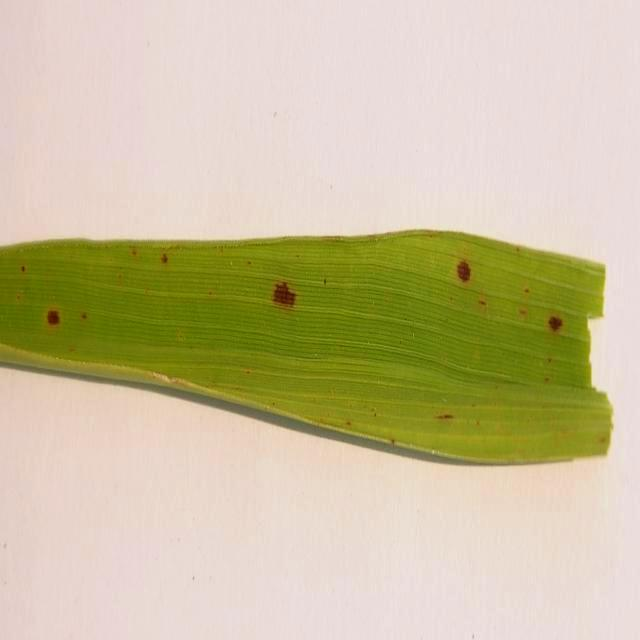Brownspot: (273, 282, 295, 305), (457, 260, 470, 281), (548, 316, 562, 331), (47, 309, 59, 324), (436, 413, 453, 419), (161, 253, 167, 263), (519, 308, 527, 315), (599, 436, 606, 443), (345, 420, 352, 427), (131, 248, 137, 256), (478, 299, 486, 305), (68, 346, 75, 352), (390, 439, 396, 446), (20, 265, 25, 272), (16, 293, 21, 300), (81, 312, 86, 319), (524, 287, 529, 293), (245, 369, 251, 374), (544, 377, 549, 382), (547, 357, 551, 363), (323, 278, 326, 285), (208, 290, 212, 295), (247, 260, 251, 264), (476, 420, 479, 425)
